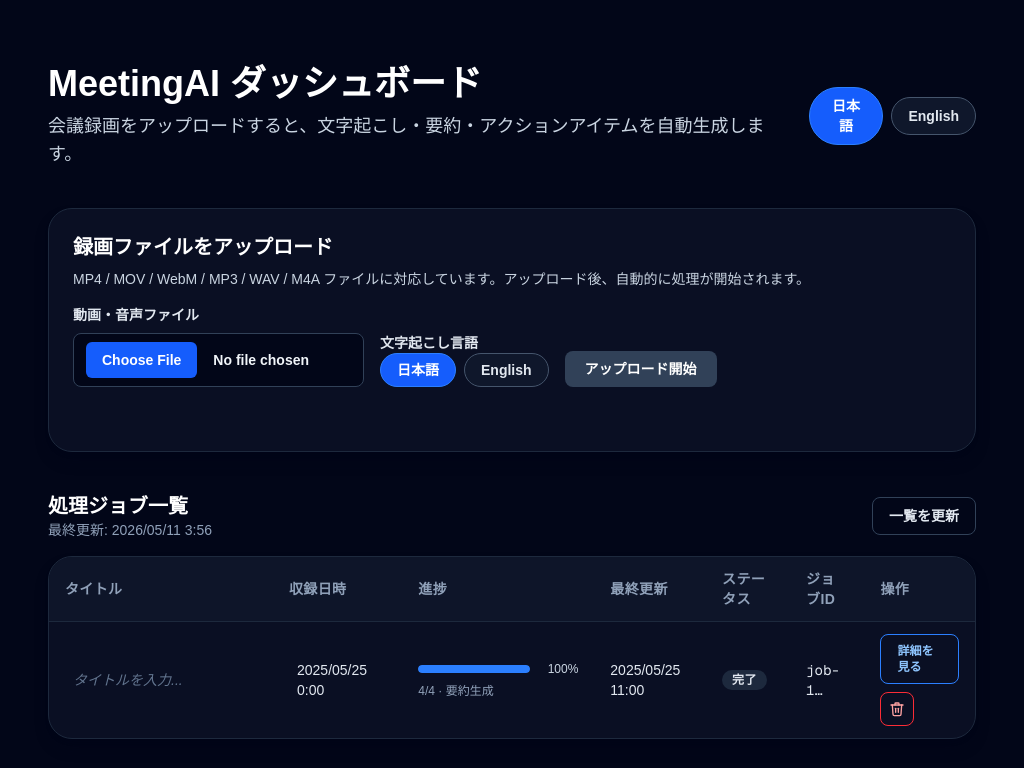
Test: Dashboard component › renders job list and updates language
The image size is (1024, 768).
Expected: the column heading "ジョブID" is shown, [790, 557, 864, 622]
Expected: the column heading "収録日時" is shown, [273, 557, 402, 622]
// First "English" button is the UI language switcher in the header
Click the button "English" in the row of "MeetingAI ダッシュボード": (934, 116) [891, 97, 976, 135]
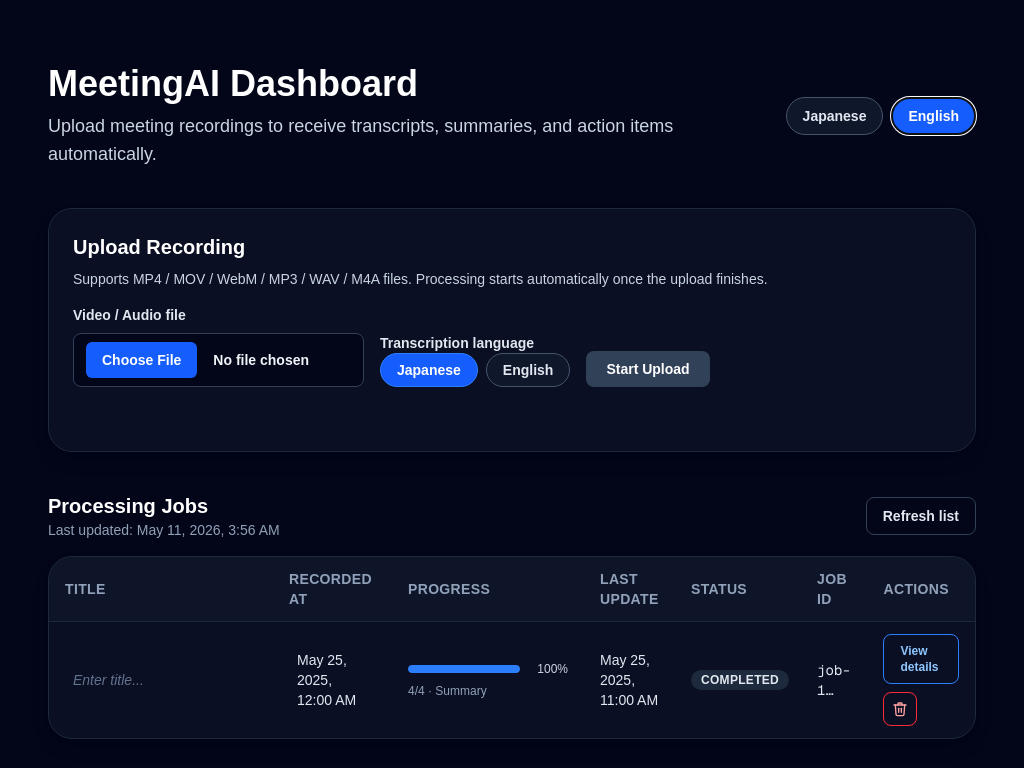
Now the column heading "Job ID" is shown, box [801, 557, 868, 622]
Now the column heading "Recorded At" is shown, box [273, 557, 392, 622]
Now the text "Completed" is shown, box [691, 670, 789, 690]
Click the button named "Delete job": (900, 709) [884, 692, 918, 726]
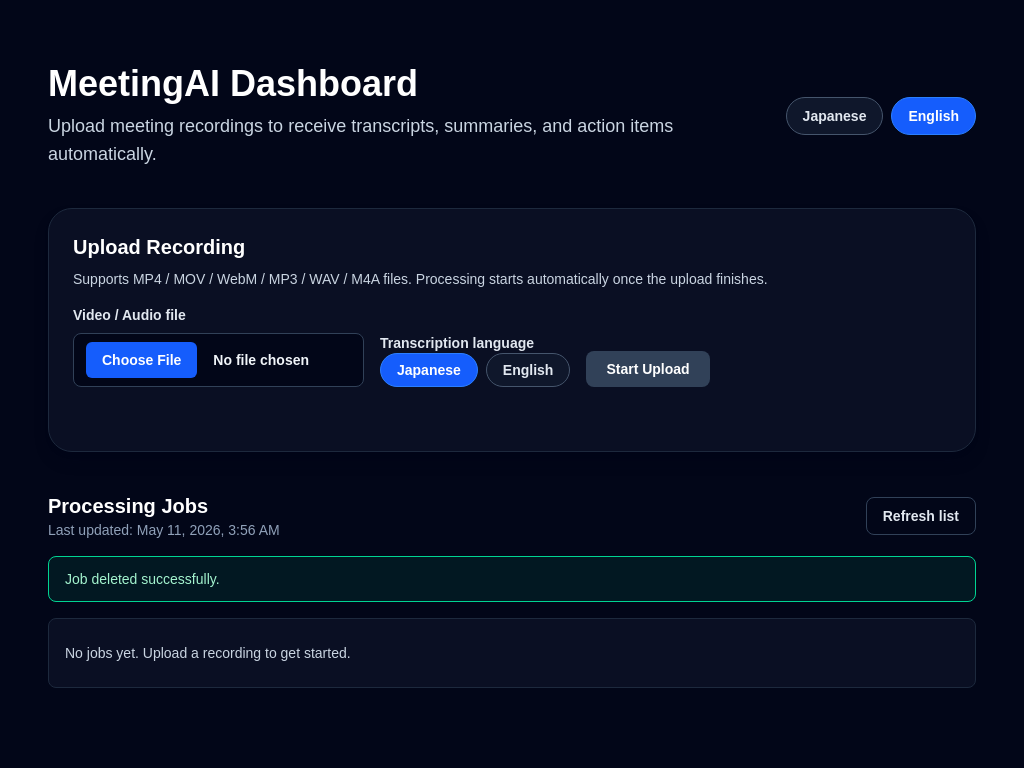
Now the text "Job deleted successfully." is shown, box [48, 556, 976, 602]
